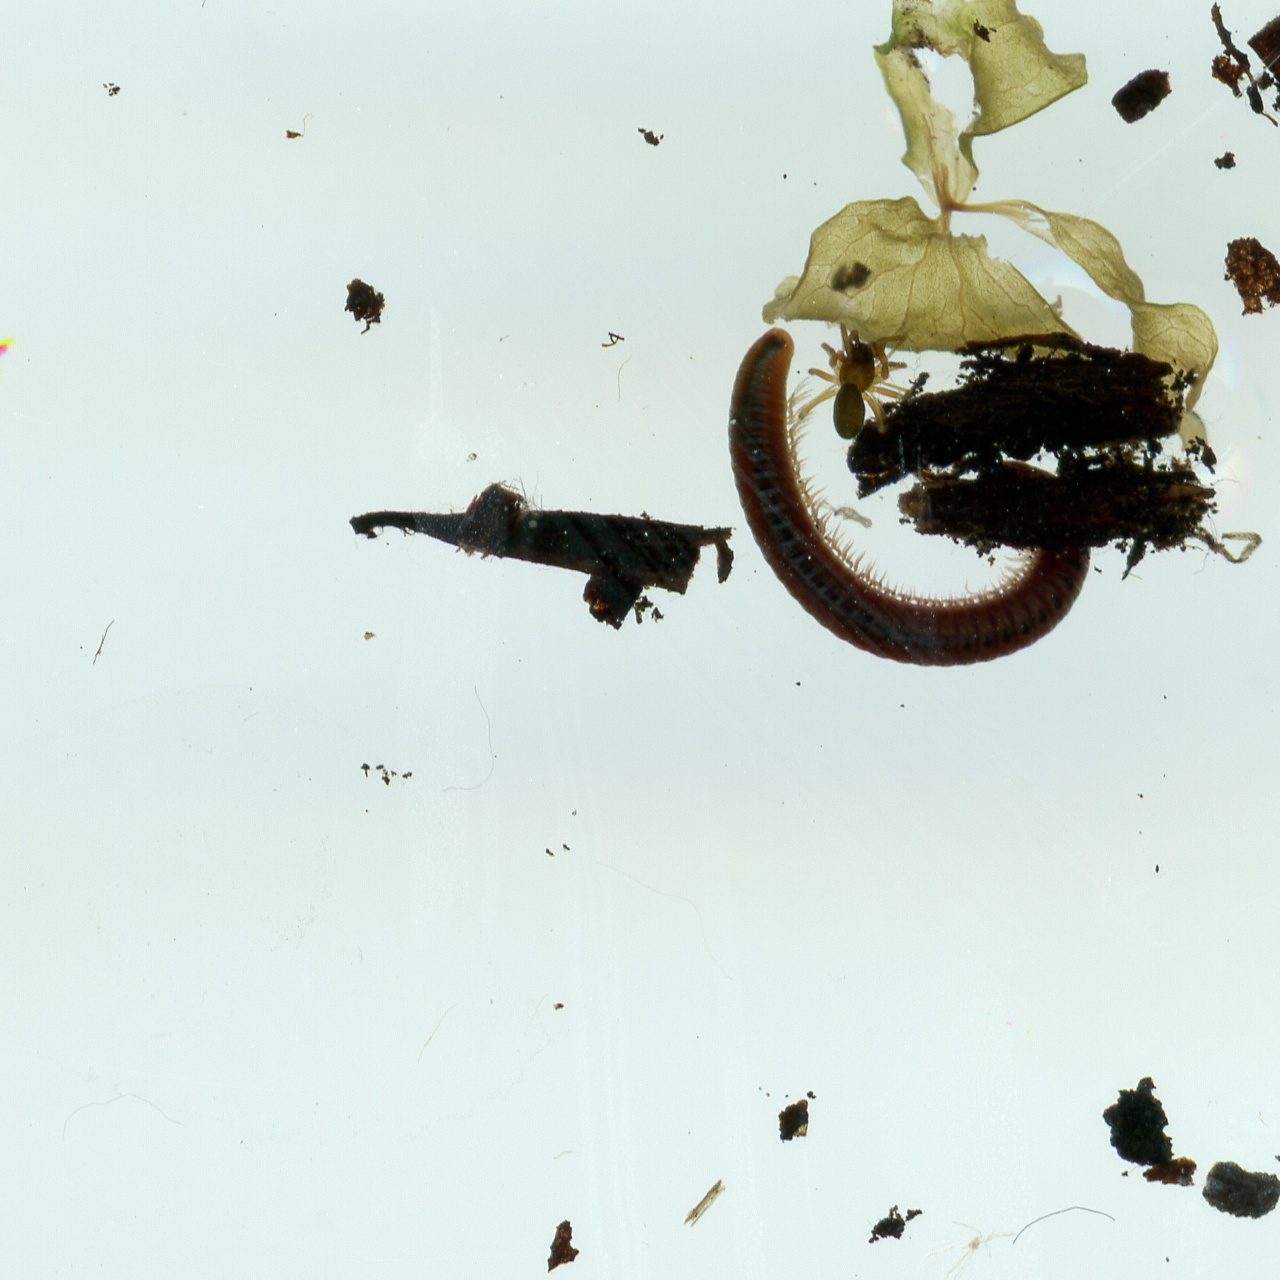arthropod: (727, 329, 1094, 669), (796, 312, 915, 437), (0, 342, 11, 408)
